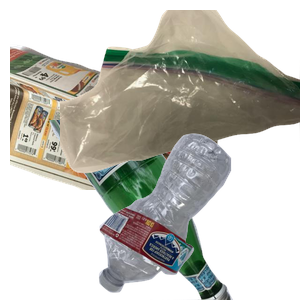glass: (37, 120, 262, 300)
paper: (10, 42, 224, 222)
plastic: (96, 131, 300, 300)
trash: (60, 10, 300, 176)
